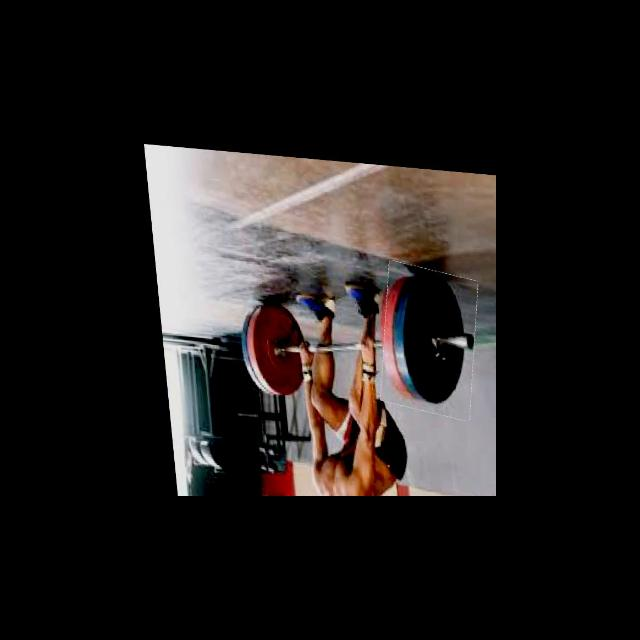barbell: (371, 257, 481, 414)
